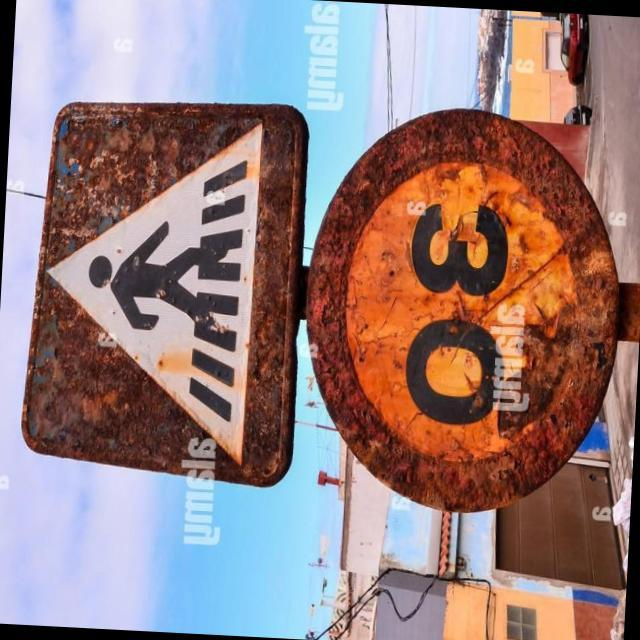obstructed_road_sign: (308, 110, 618, 511), (22, 102, 307, 489)
